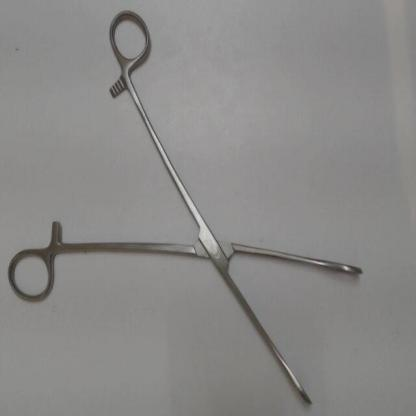Sponge Forceps: (3, 4, 379, 409)
